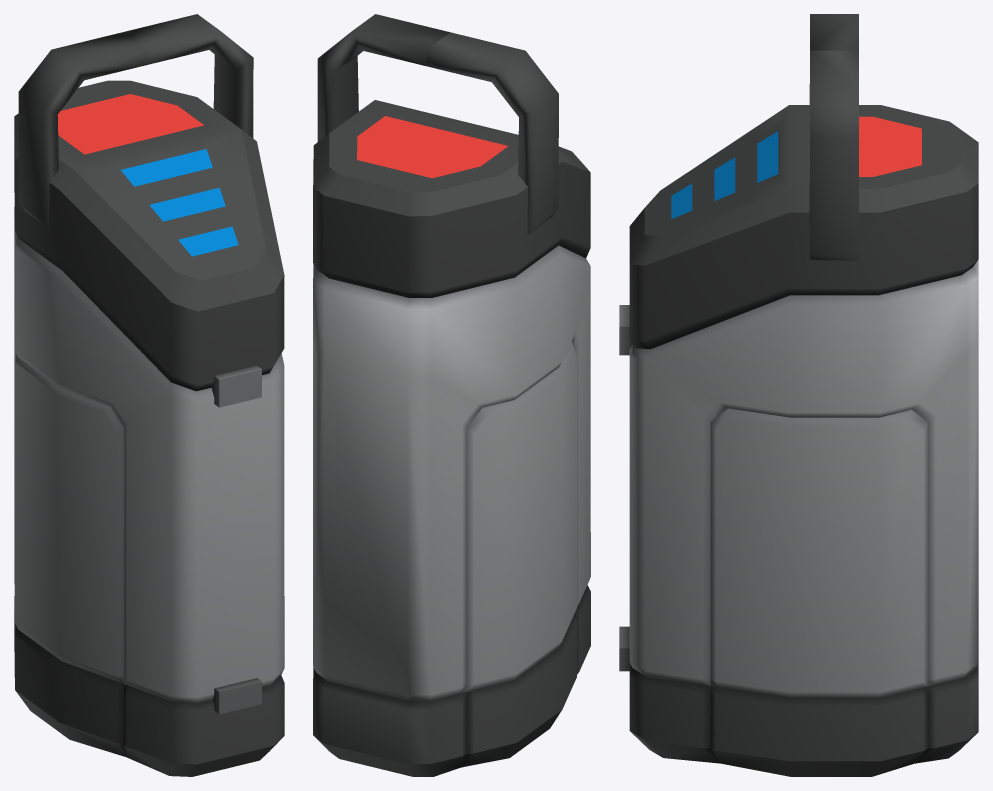
The model's file is Barrel_014.fbx.
The picture shows the model from 3 angles, left to right: view 1: azimuth 30°, elevation 25°; view 2: azimuth 150°, elevation 25°; view 3: azimuth 270°, elevation 25°; orthographic projection. The views are drawn at different scales.
Parts seen in each view (by area): view 1: Barrel_014; view 2: Barrel_014; view 3: Barrel_014.
Boxes of the visible parts, left/top/right/bottom form: Barrel_014: left=14, top=14, right=284, bottom=776; Barrel_014: left=313, top=14, right=590, bottom=776; Barrel_014: left=619, top=14, right=978, bottom=776.
Size of the model in its own units: 43.09 by 61.73 by 129.
